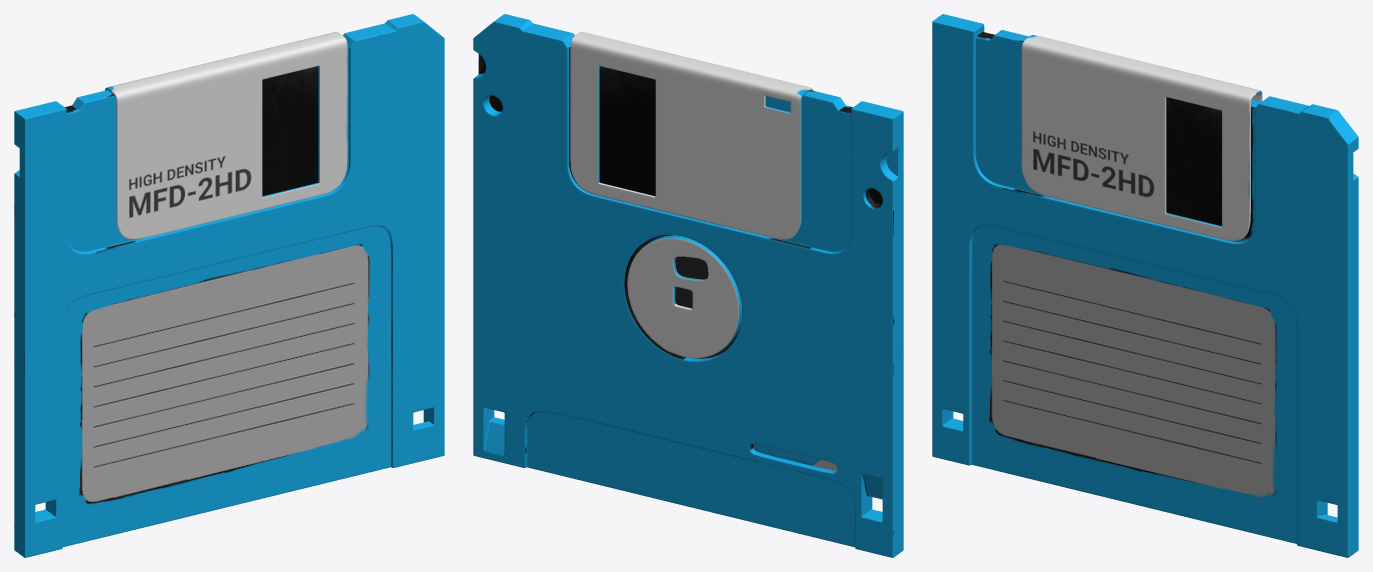
Rendered from floppy_blue.glb.
3 views of the same model, side by side, from view 1: azimuth 30°, elevation 25°; view 2: azimuth 150°, elevation 25°; view 3: azimuth 330°, elevation 25° (orthographic).
Parts seen in each view (by area): view 1: Floppy_0; view 2: Floppy_0; view 3: Floppy_0.
Boxes of the visible parts, x1=… form: Floppy_0: x1=14, y1=14, x2=444, y2=557; Floppy_0: x1=473, y1=14, x2=903, y2=557; Floppy_0: x1=932, y1=14, x2=1358, y2=557.
Size of the model in its own units: 0.2182 by 0.2194 by 0.0117.
Materials: 1 (1 with a texture image).
